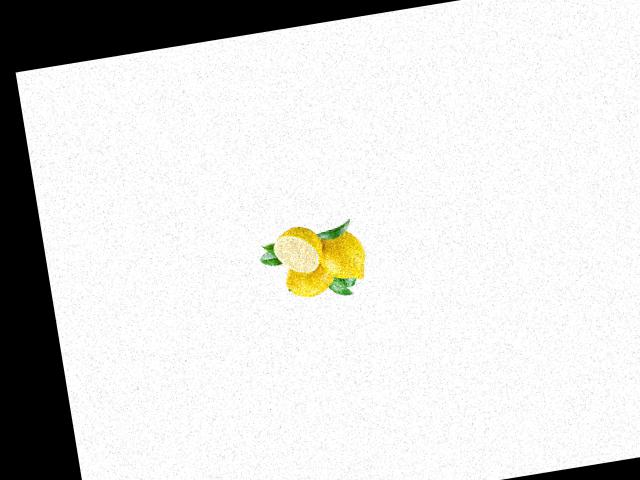lemon: (312, 221, 372, 291)
